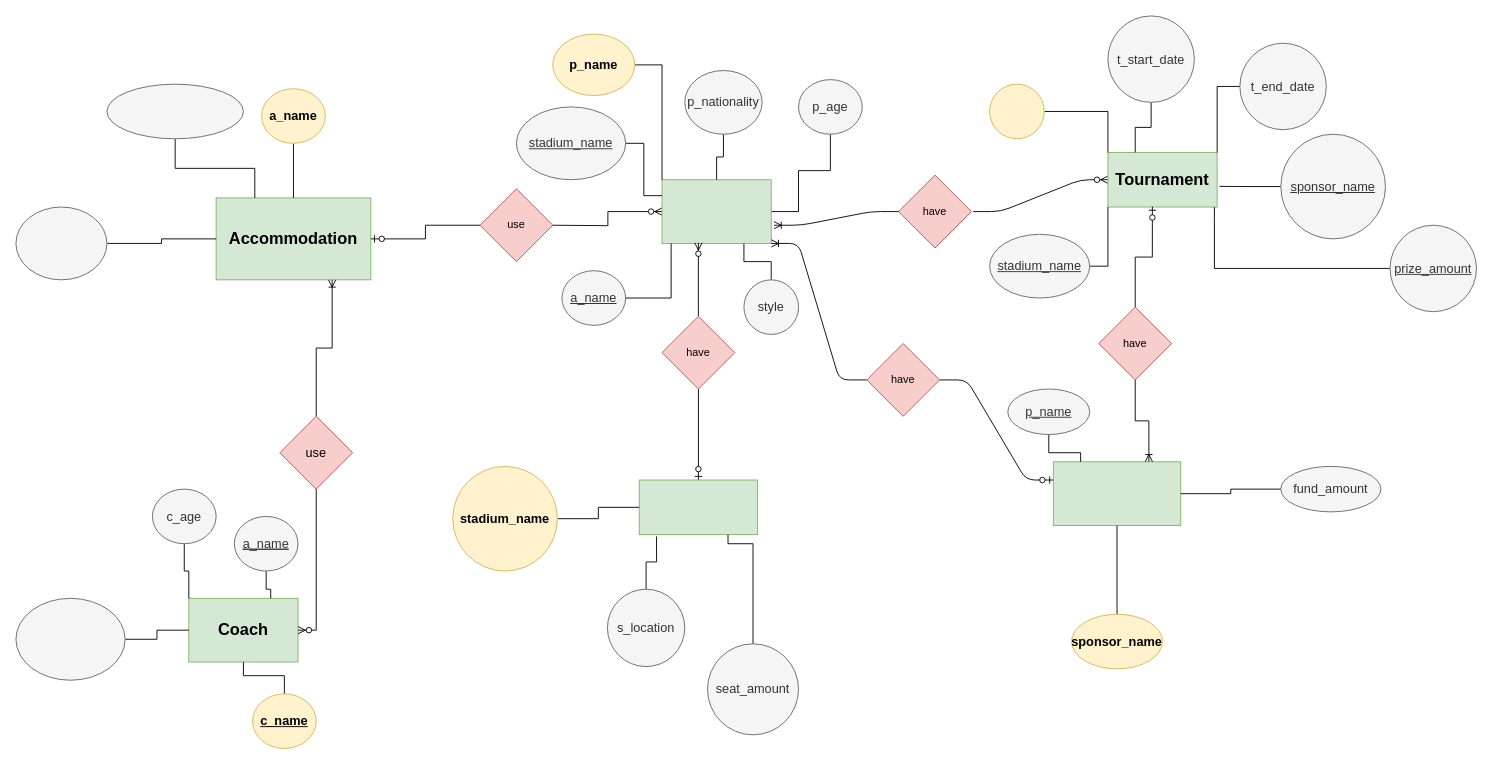
Some shapes in this 1492 by 764 pixel diagram are drawn without their labels. Here are the shapes that lost their labels. From the top down, the centre of each, then its label:
At point (174, 111): "fee_per_night".
At point (1016, 111): "t_name".
At point (716, 211): "Player".
At point (61, 243): "a_location".
At point (698, 507): "Stadium".
At point (1116, 493): "sponsor".
At point (70, 638): "c_nationality".
